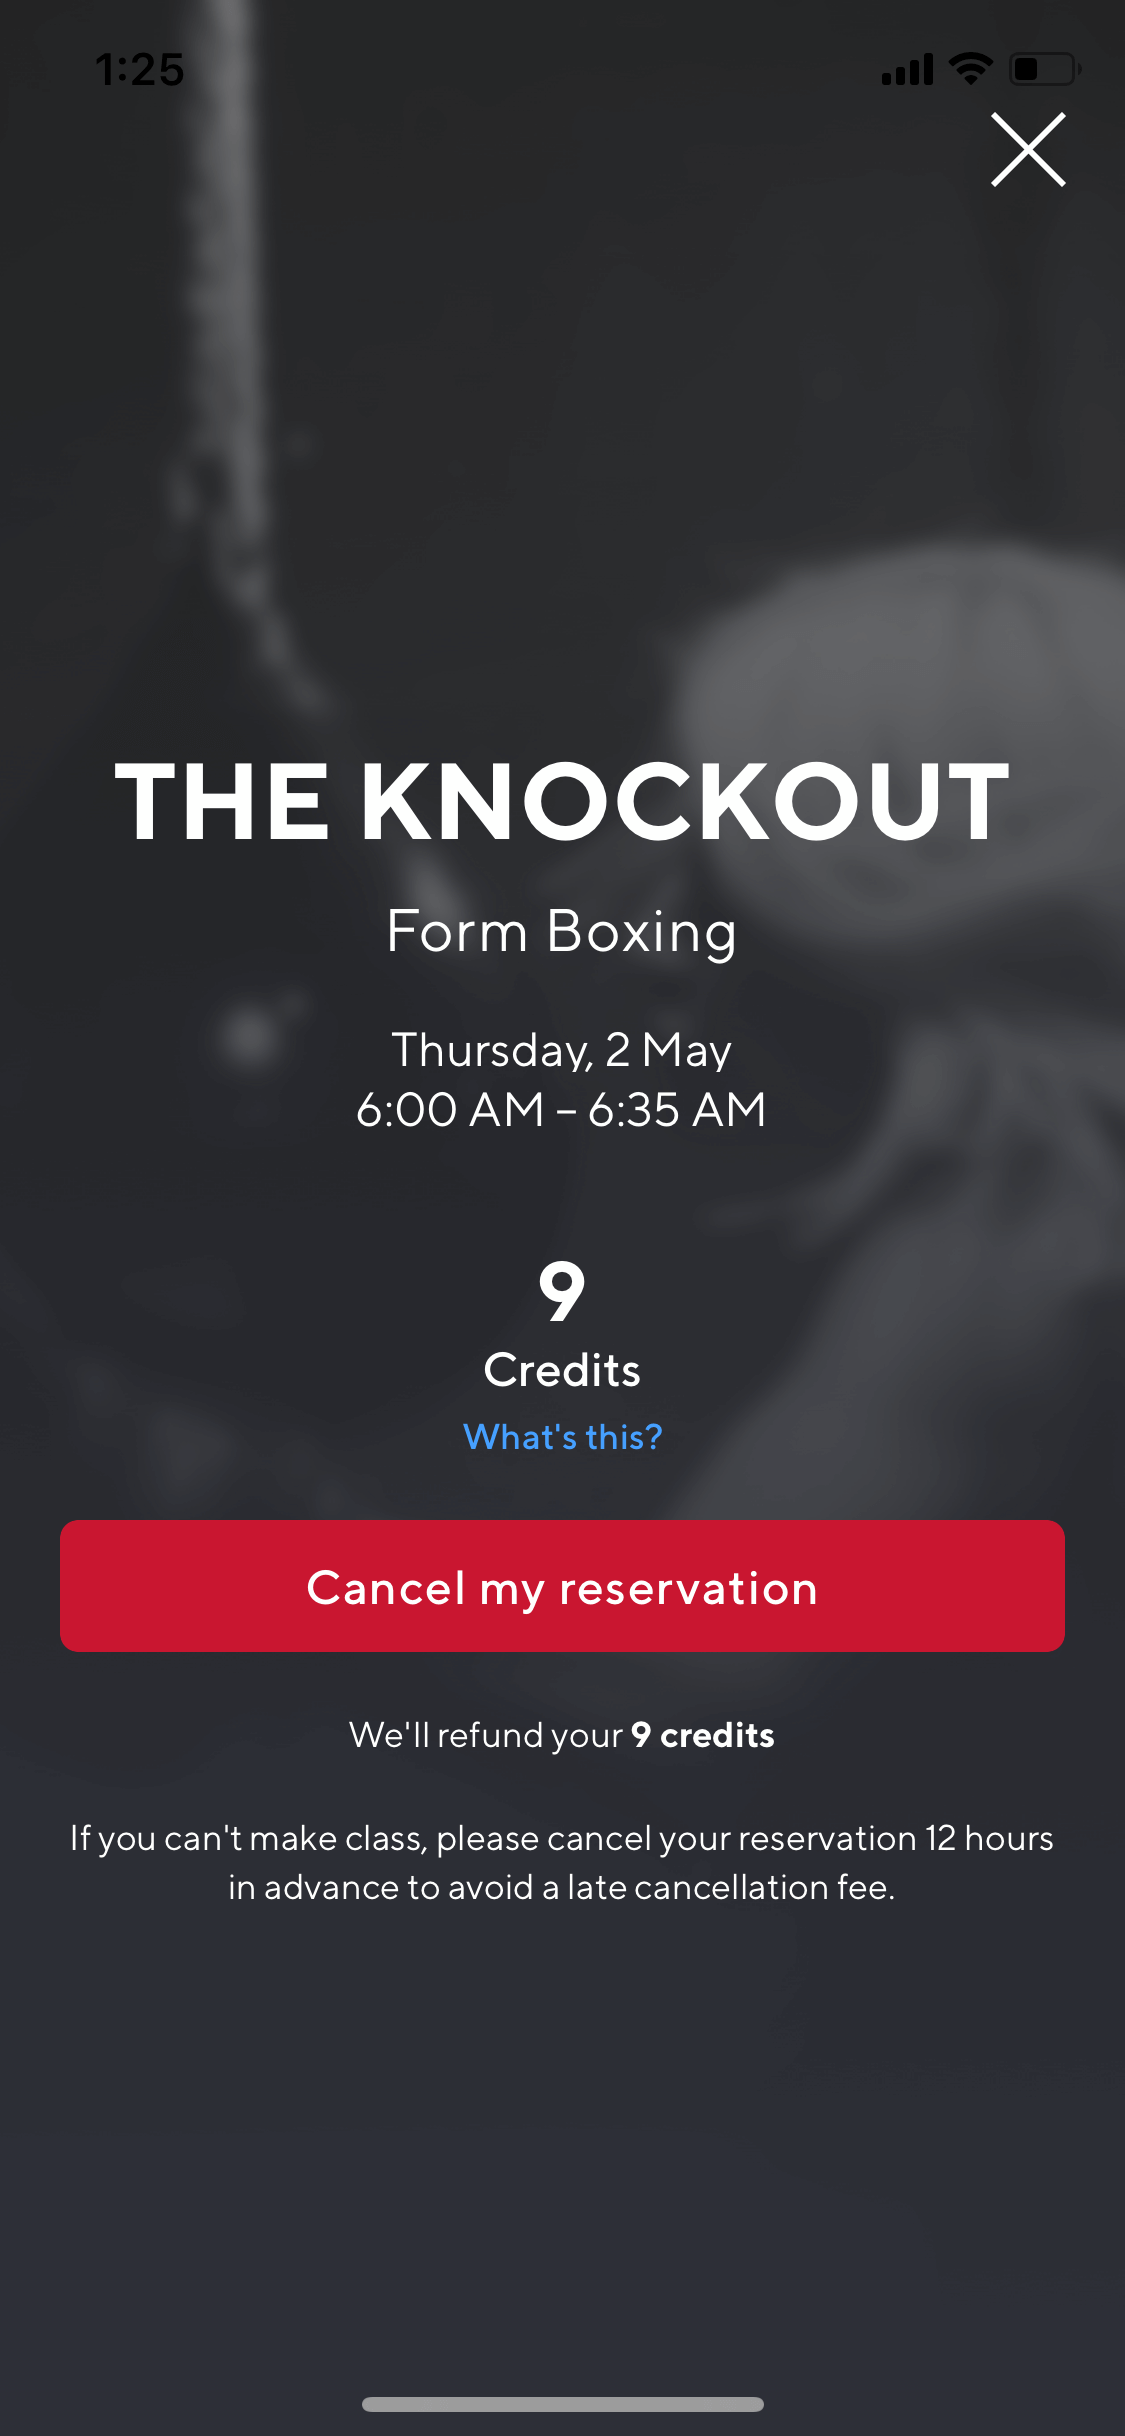Buttons: (37, 1496, 1080, 1662), (962, 95, 1092, 227)
